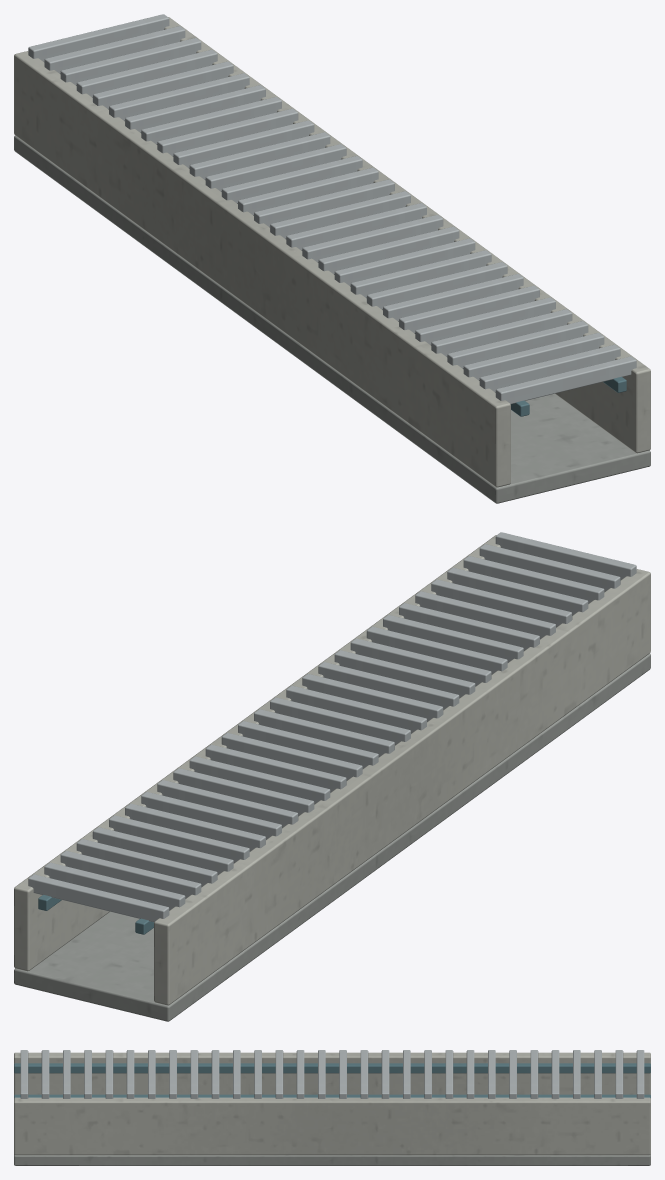
File: gorgehold-survivor-gallery-and-operations-gallery-peri-b4a0c885__32854.glb
The picture shows the model from 3 angles, top to bottom: view 1: azimuth 30°, elevation 25°; view 2: azimuth 150°, elevation 25°; view 3: azimuth 270°, elevation 25°; orthographic projection. The views are drawn at different scales.
Visible parts, largest first — view 1: gallery-perimeter-drainage-trench; view 2: gallery-perimeter-drainage-trench; view 3: gallery-perimeter-drainage-trench.
Boxes of the visible parts, <box> form: gallery-perimeter-drainage-trench: <box>14,14,650,503</box>; gallery-perimeter-drainage-trench: <box>14,532,650,1021</box>; gallery-perimeter-drainage-trench: <box>14,1050,650,1165</box>.
Bounding box in the file's own units: 0.4 × 0.2599 × 2.15.
4 materials, 4 textured.
